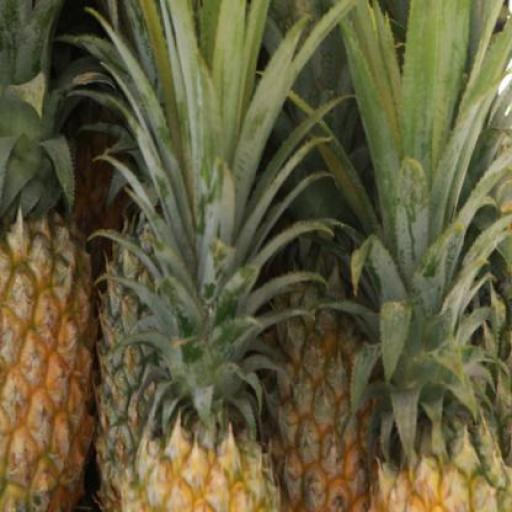------------------------------: (0, 227, 93, 512)
Pineapple - v8 v1: (130, 405, 287, 512)
